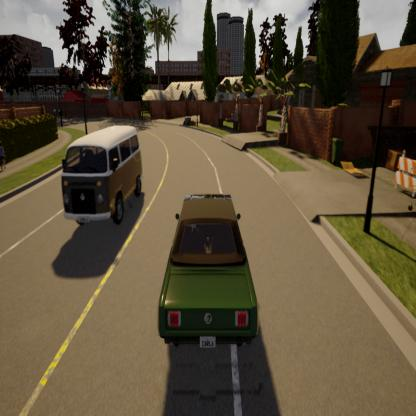Cars: (151, 181, 265, 360), (52, 121, 148, 239)
Pedestrian: (0, 135, 10, 175)
